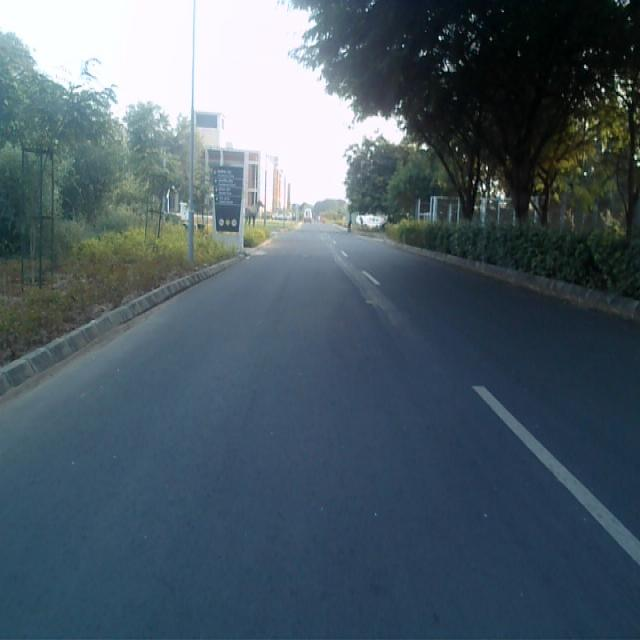lane: (0, 226, 640, 640)
